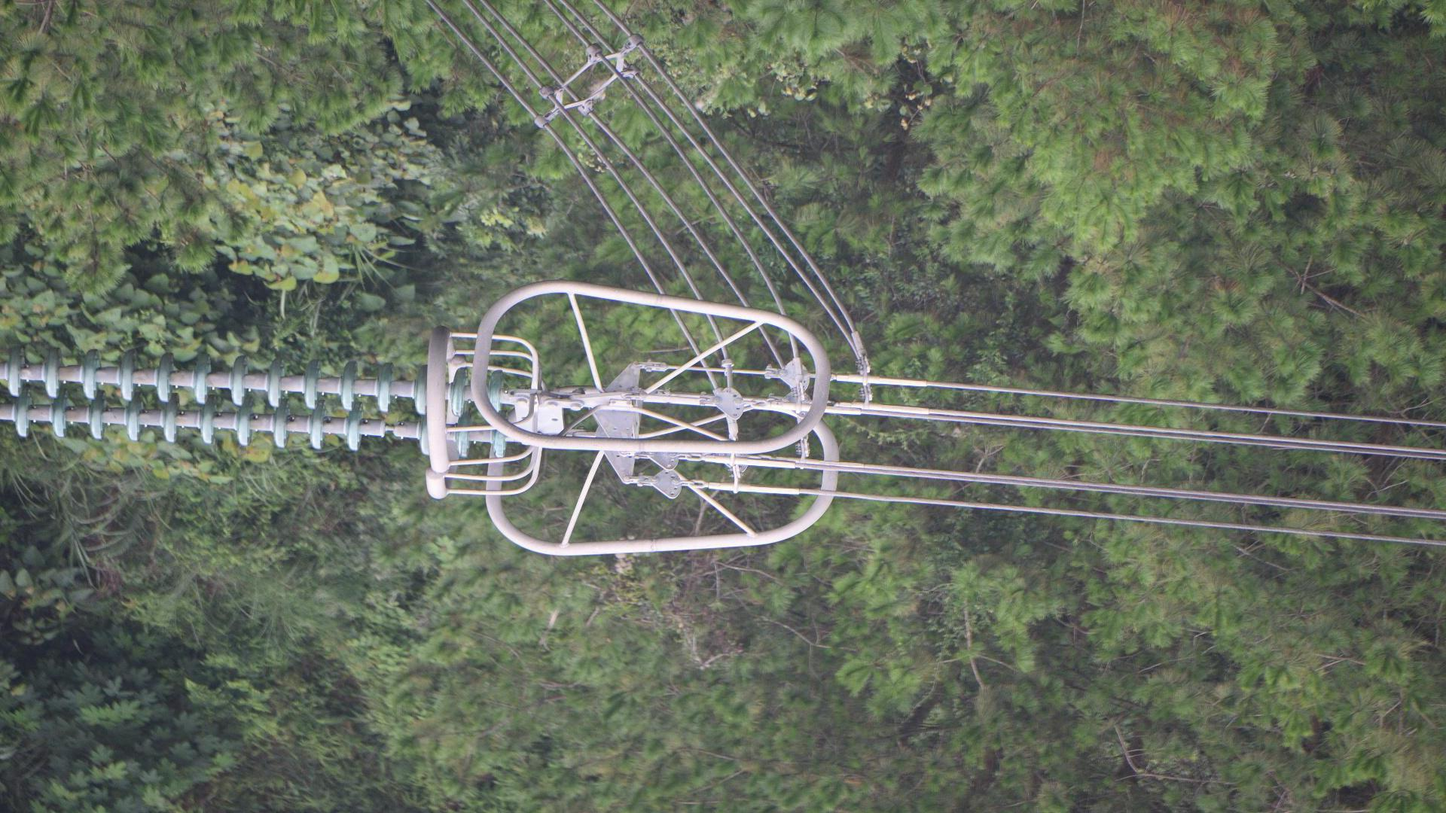insulator: (1, 333, 525, 467)
insulator_stringdrop: (340, 399, 432, 460)
